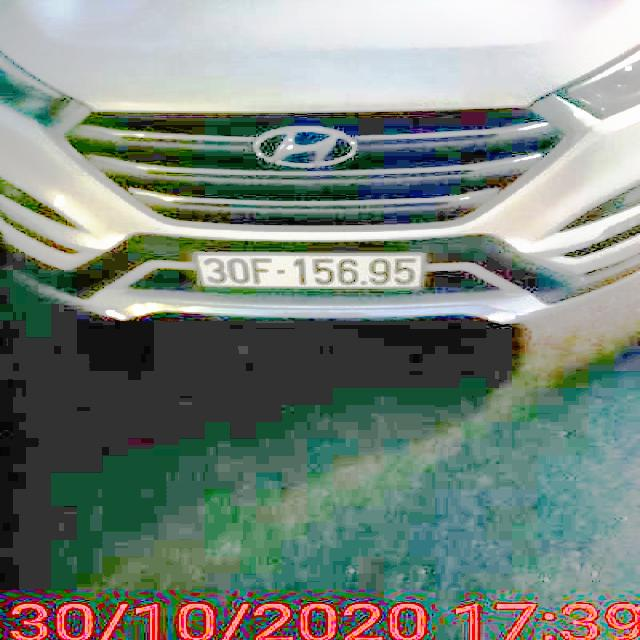license_plate: (192, 255, 424, 290)
